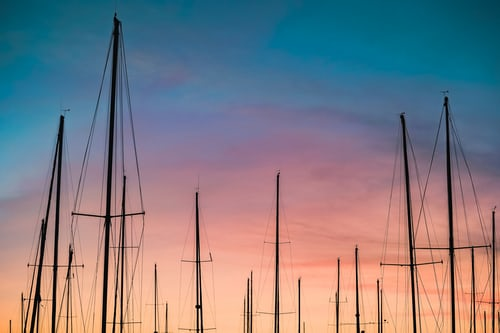yacht: (83, 16, 145, 332)
